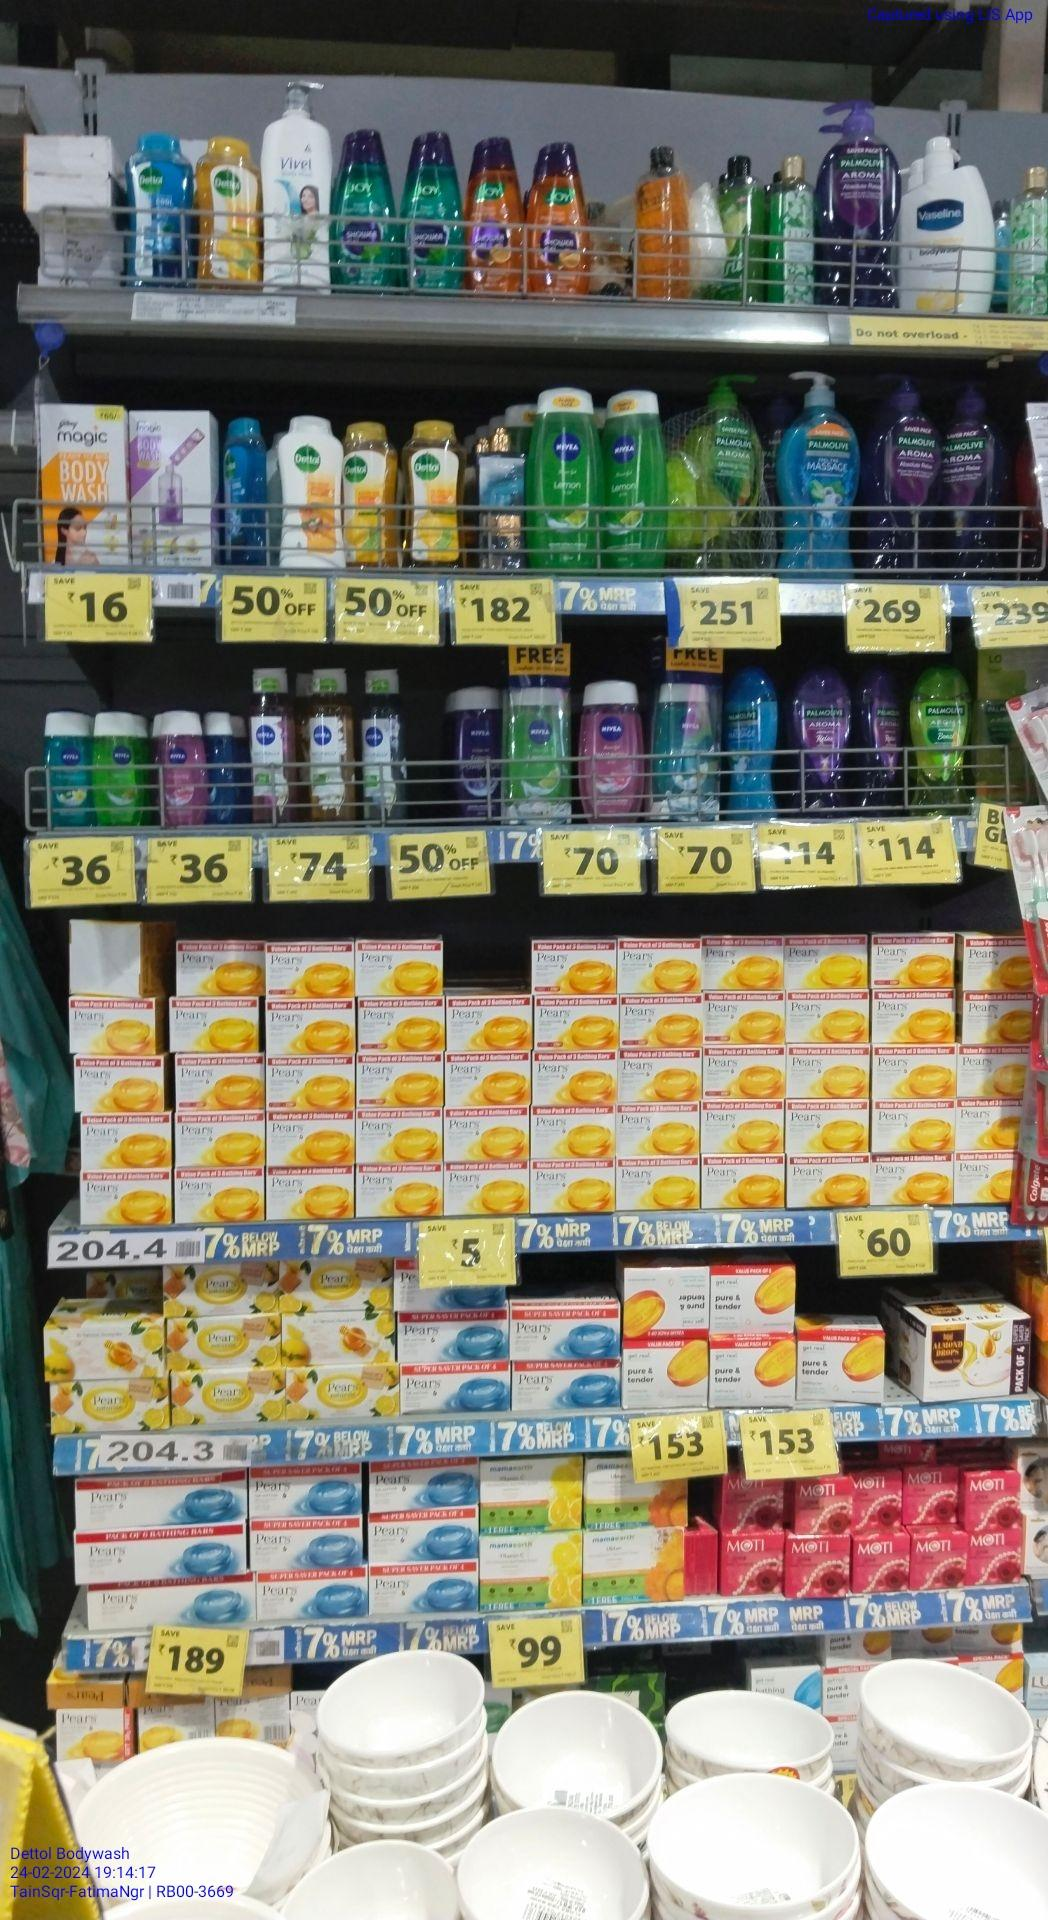Dettol_Bodywash_Cool: (129, 135, 195, 288), (225, 415, 268, 561)
Dettol_Bodywash_Refresh: (200, 138, 261, 285), (405, 422, 465, 569), (347, 422, 398, 568)
Dettol_Nourish_Body_Wash_250ML: (277, 415, 345, 569)
Joy_Shower_Gel_Mandarin_and_Lemongrass_250ML: (532, 141, 592, 297), (472, 137, 528, 292)
Joy_Shower_Gel_Mint_and_Eucalyptus_250ML: (328, 129, 398, 288), (407, 129, 465, 290)
Lux_Body_Wash_Skin_Detox_Freesia_Scent_and_Alove_Vera_245ML: (776, 157, 820, 302), (1017, 165, 1047, 314)
Nivea_Shower_Gel_Frangipani_and_Oil_250ML: (656, 684, 719, 821)
Nivea_Shower_Gel_Fresh_Powerfruit_250ML: (452, 688, 501, 819)
Nivea_Shower_Gel_Lemon_and_Oil_250ML: (528, 387, 603, 565), (605, 388, 666, 566), (509, 685, 570, 823)
Nivea_Shower_Gel_Waterlily_and_Oil_250ML: (582, 680, 641, 821)
Palmolive_Aroma_Moments_Feel_The_Massage_Shower_Gel_250ML: (731, 671, 778, 818)
Palmolive_Aroma_Morning_Tonic_Shower_Gel_250ML: (910, 670, 972, 815)
Palmolive_Aroma_Relax_250ML: (792, 671, 849, 815), (857, 668, 906, 813)
